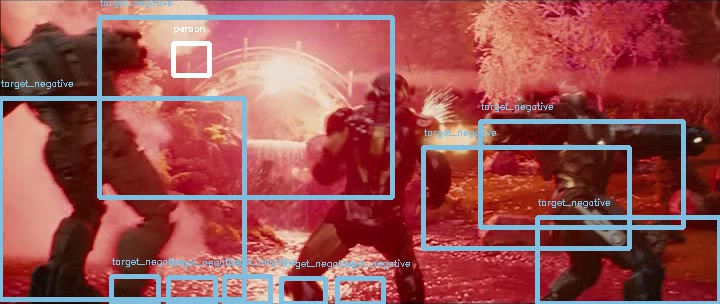person: (366, 71, 408, 108), (365, 71, 407, 108), (367, 71, 409, 108), (366, 70, 408, 107), (366, 72, 408, 109)
target_negative: (42, 175, 679, 239), (129, 107, 353, 245), (540, 99, 705, 261), (697, 40, 716, 245), (395, 175, 426, 224), (689, 217, 707, 278)
